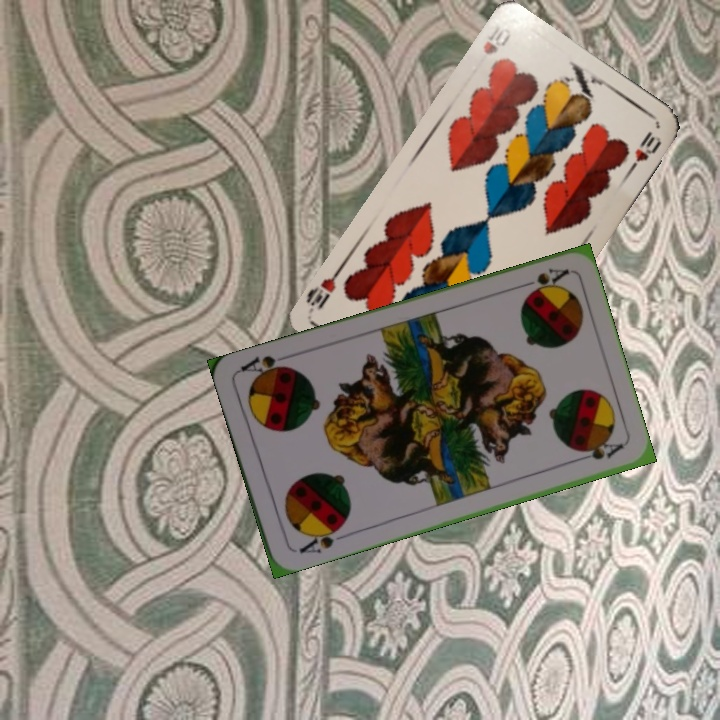H10: (479, 21, 514, 58)
SA: (514, 263, 571, 298), (295, 521, 349, 556)
